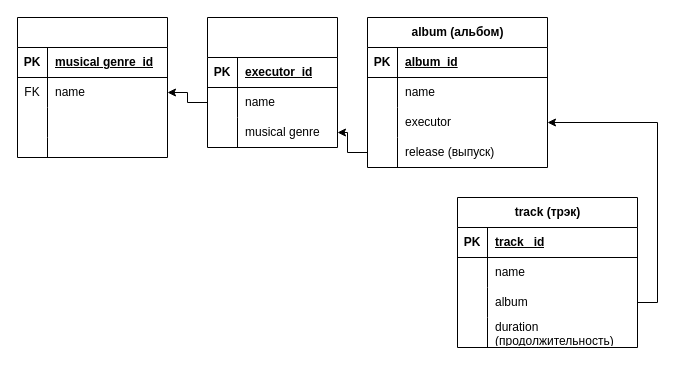
This 683x365 diagram has some shape labels left out. Each missing label, with the box of its shape:
executor (исполнитель): (206, 16, 338, 148)
musical genre (жанр): (16, 16, 168, 158)
